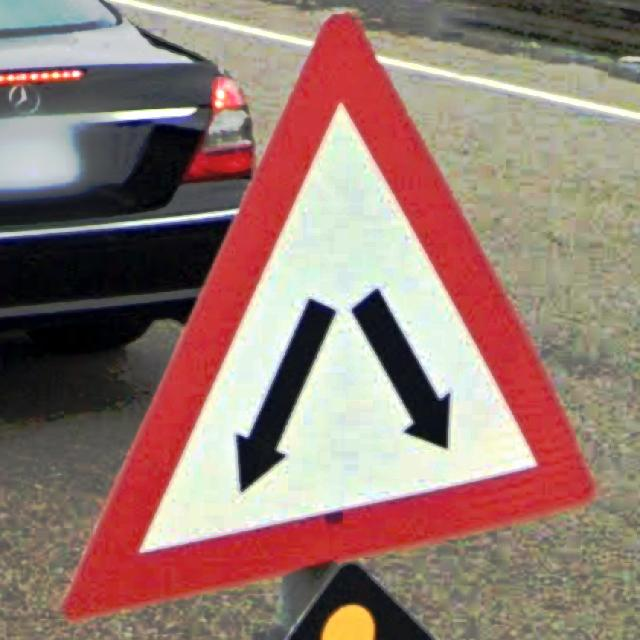diverge: (62, 11, 596, 622)
